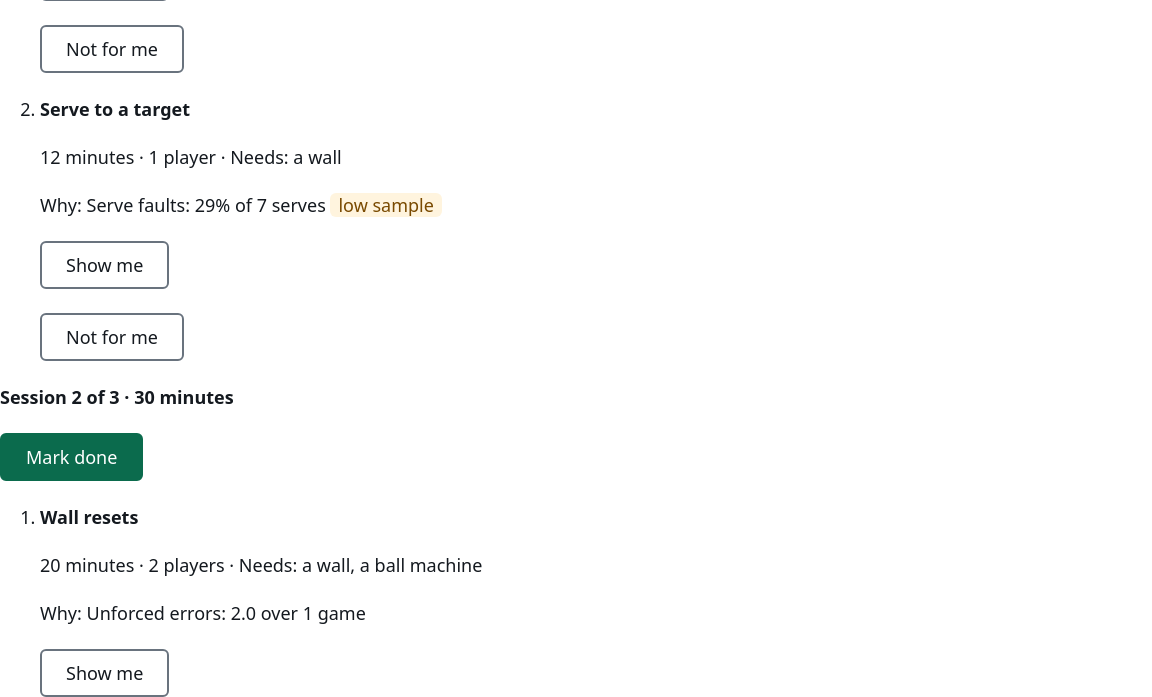
it: Not for me (negative first) › a 5xx keeps the dialog and the reason, with the reference
This screenshot has width=1152, height=697.
(page scrolled)
Expected: the text "Serve to a target" is shown, [40,97,190,121]
Click the button with aria-label "Not for me, Serve to a target": (112, 337) [40,313,184,361]
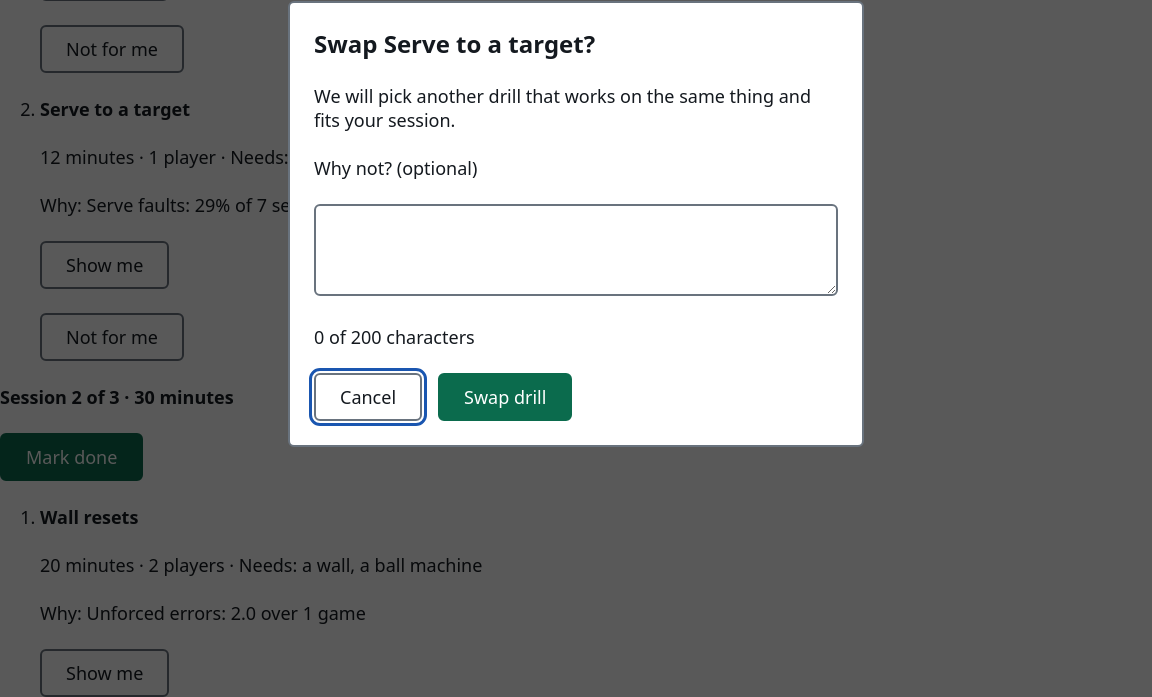
In the text box labelled "Why not? (optional)": (576, 250) [314,204,838,296], type "too hard"
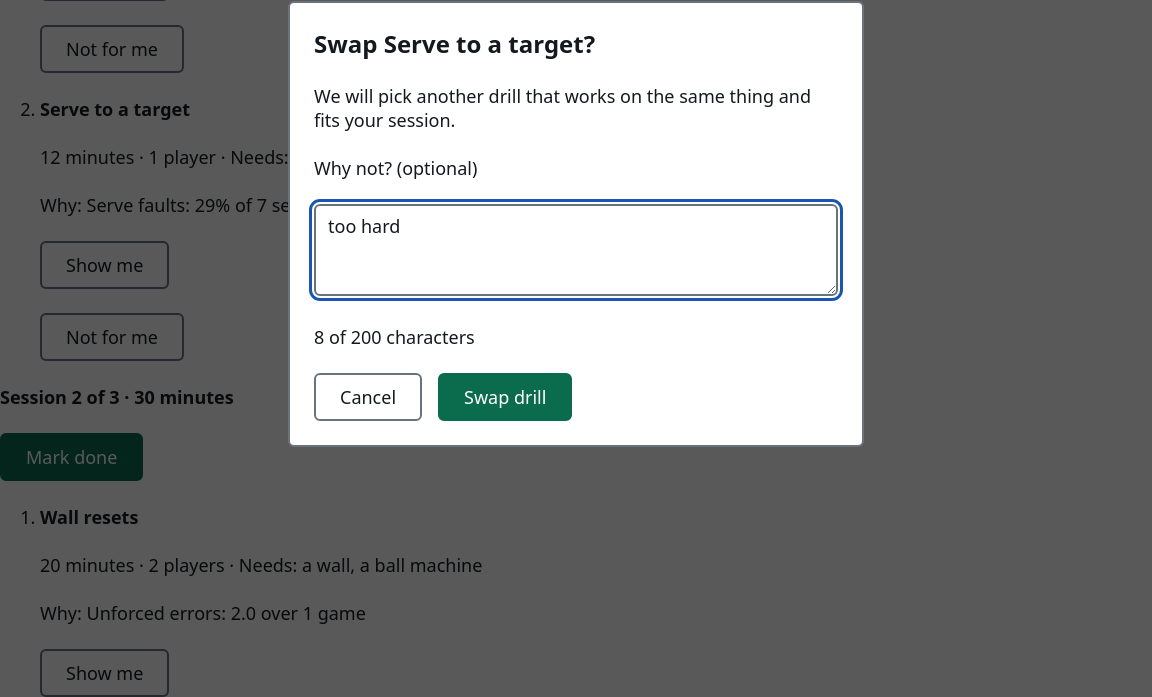
Click the button "Swap drill": (505, 397) [438,373,572,421]
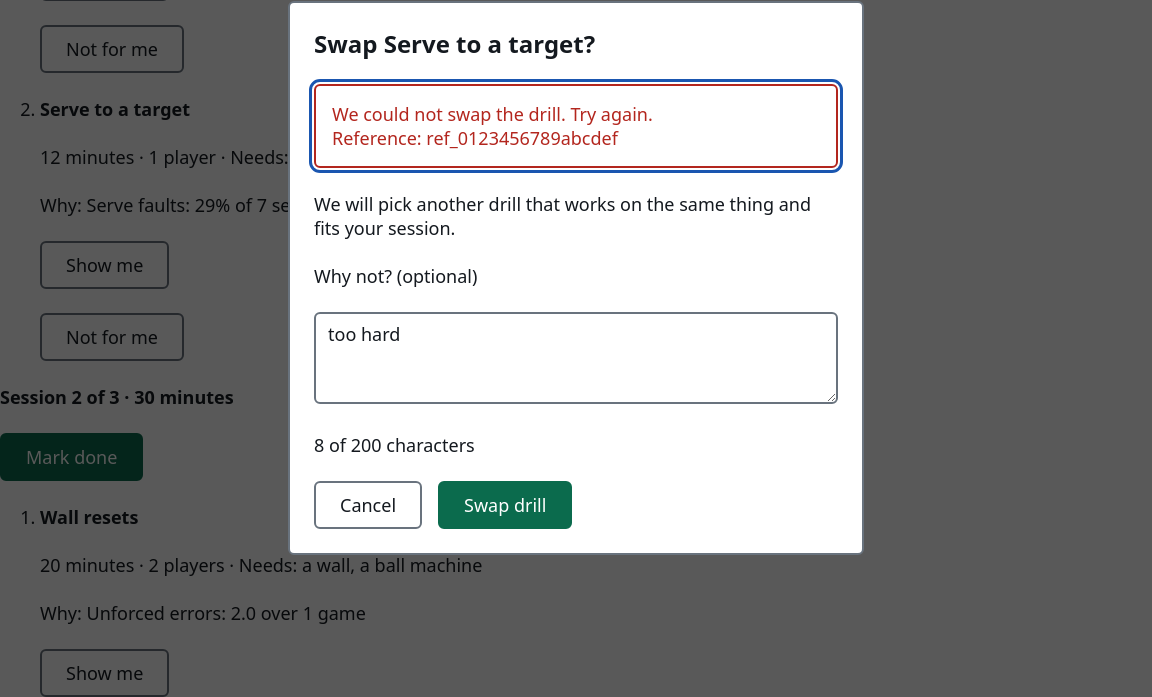
Now the message shows "We could not swap the drill. Try again.", box [332,102,653,126]
Now the message shows "Reference: ref_0123456789abcdef", box [332,126,618,150]
